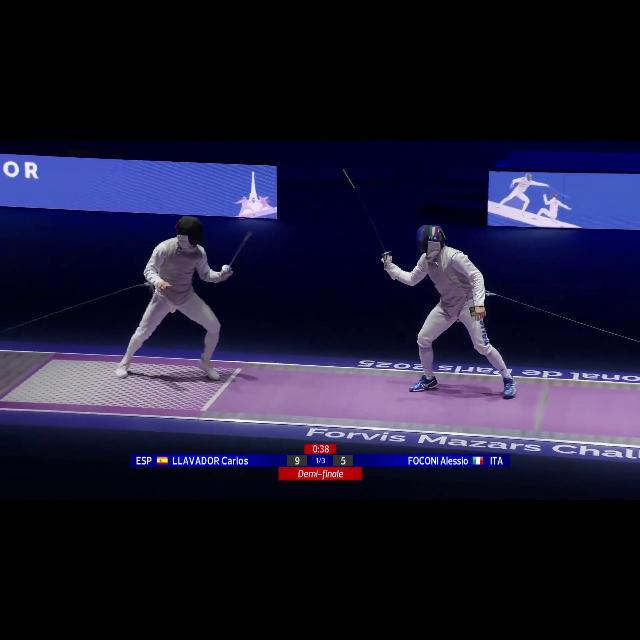blade: (334, 165, 396, 262), (221, 228, 257, 278)
